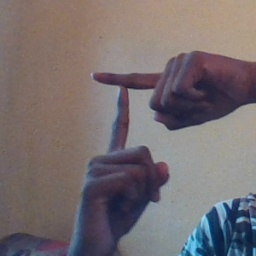T: (74, 57, 182, 172)
